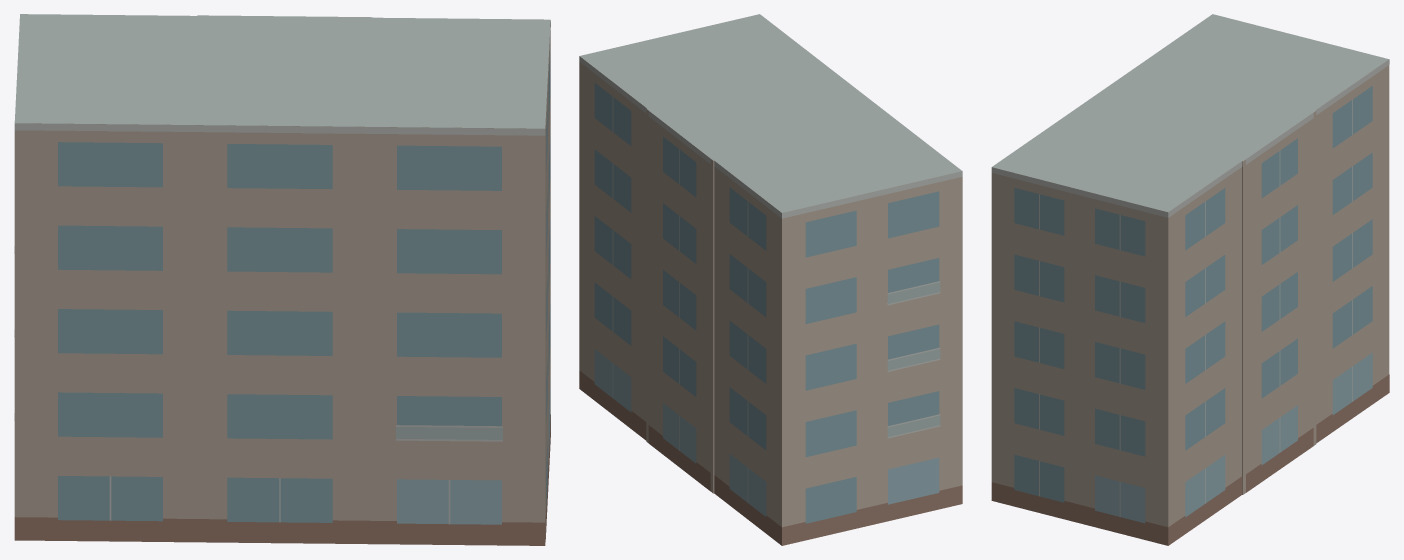
File: survey-upis-32623615.glb
3 views of the same model, side by side, from view 1: azimuth 30°, elevation 25°; view 2: azimuth 150°, elevation 25°; view 3: azimuth 270°, elevation 25° (orthographic). The views are drawn at different scales.
Visible parts, largest first — view 1: survey-upis-32623615.tmp; view 2: survey-upis-32623615.tmp; view 3: survey-upis-32623615.tmp.
Boxes of the visible parts, x1,y1,x2,y2 form: survey-upis-32623615.tmp: (14, 14, 550, 545); survey-upis-32623615.tmp: (579, 14, 962, 545); survey-upis-32623615.tmp: (991, 14, 1389, 545).
Size of the model in its own units: 18.49 by 14.5 by 15.68.
